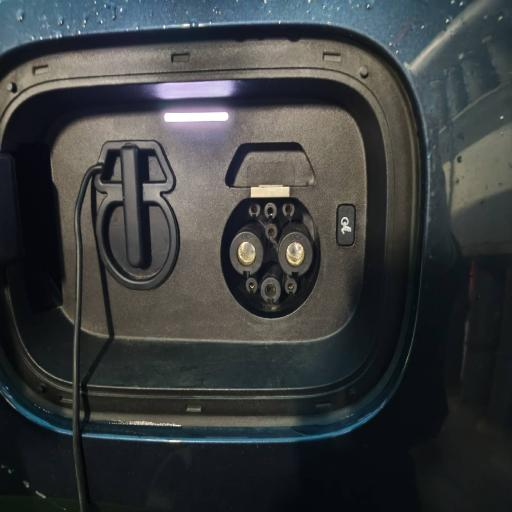DC_hole: (228, 230, 264, 277), (278, 232, 314, 277)
PE: (260, 276, 282, 306)
charging_port: (219, 195, 323, 323)
